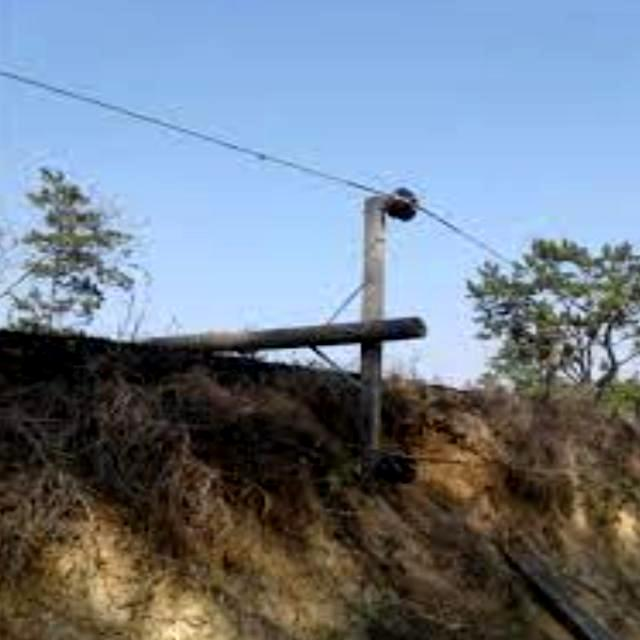Broken Pole: (92, 162, 466, 476)
